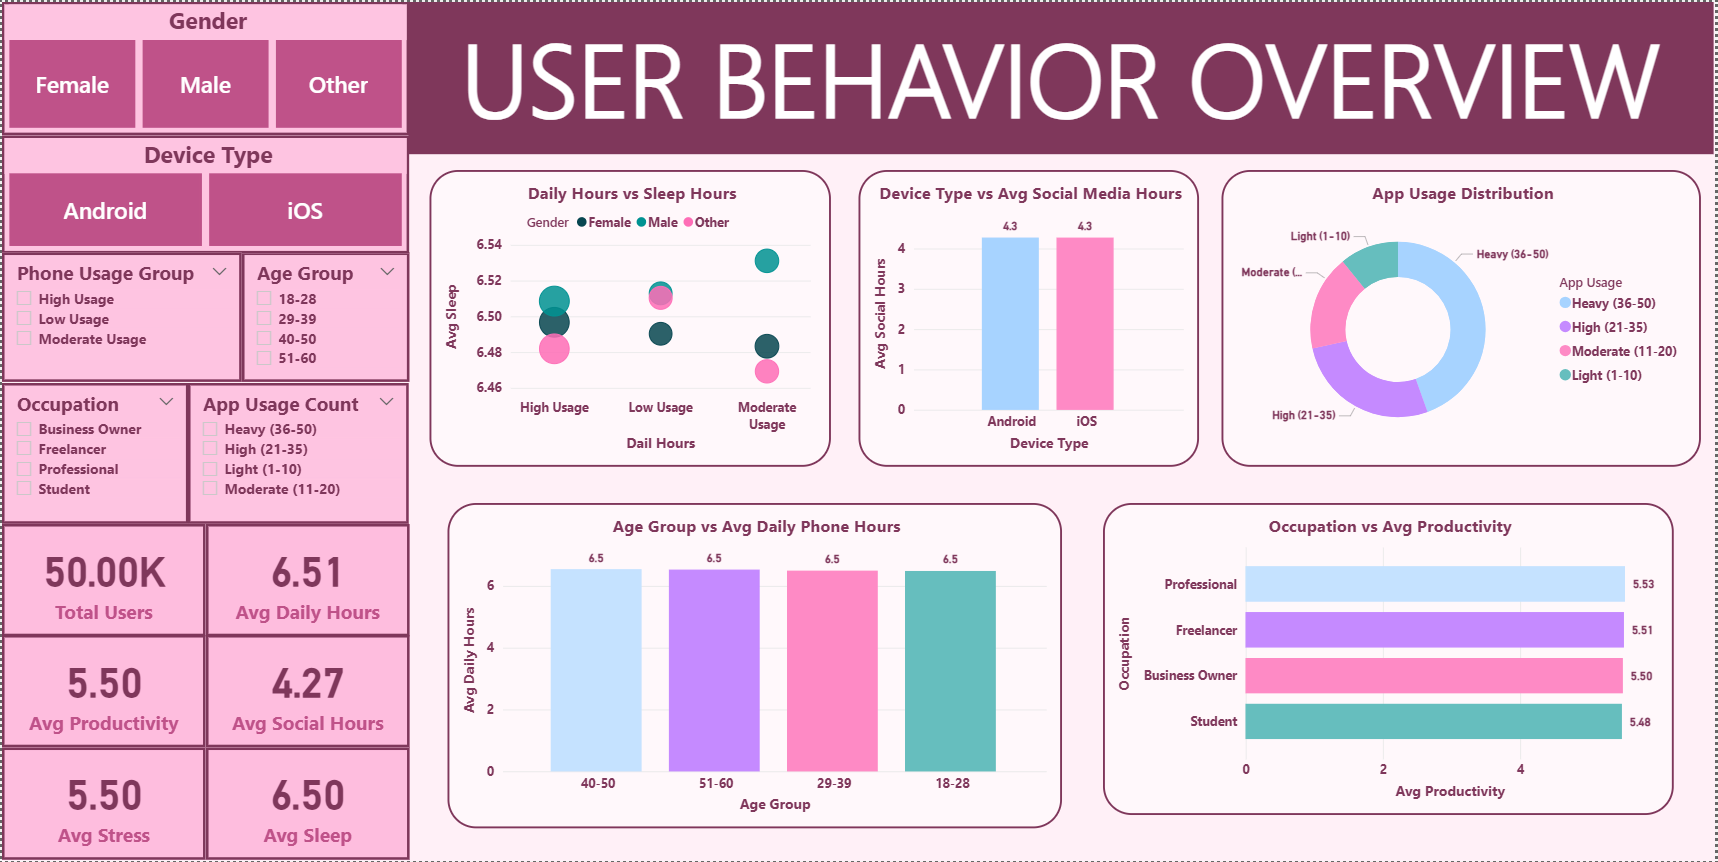

The page's visual inventory and layout, read from the dashboard file:
{"tool":"powerbi","page":{"name":"USER BEHAVIOR OVERVIEW","canvas":[1800,903],"ordinal":1},"visuals":[{"type":"advancedSlicerVisual","fields":{"Values":["smartphone (2).Gender"]},"box":[0,0,428,140],"z":0},{"type":"slicer","title":"fdh","fields":{"Values":["smartphone (2).Occupation"]},"box":[0,400,196,148],"z":1000},{"type":"slicer","title":"fdh","fields":{"Values":["smartphone (2).Age_Group"]},"box":[252,264,176,136],"z":2000},{"type":"advancedSlicerVisual","fields":{"Values":["smartphone (2).Device_Type"]},"box":[0,140,428,124],"z":3000},{"type":"slicer","title":"fdh","fields":{"Values":["smartphone (2).App_Usage_Count_Group"]},"box":[196,400,232,148],"z":4000},{"type":"slicer","title":"fdh","fields":{"Values":["smartphone (2).Phone Usage Group"]},"box":[0,264,252,136],"z":5000},{"type":"card","fields":{"Values":["CountNonNull(smartphone (2).User_ID)"]},"box":[0,548,214,118],"z":6000},{"type":"card","fields":{"Values":["Avg(smartphone (2).Daily_Phone_Hours)"]},"box":[214,548,214,118],"z":7000},{"type":"card","fields":{"Values":["Avg(smartphone (2).Social_Media_Hours)"]},"box":[214,666,214,118],"z":8000},{"type":"card","fields":{"Values":["Avg(smartphone (2).Sleep_Hours)"]},"box":[214,784,214,118],"z":9000},{"type":"card","fields":{"Values":["Avg(smartphone (2).Stress_Level)"]},"box":[0,784,214,118],"z":10000},{"type":"card","fields":{"Values":["Avg(smartphone (2).Work_Productivity_Score)"]},"box":[0,666,214,118],"z":11000},{"type":"clusteredColumnChart","title":"Age Group vs Avg Daily Phone Hours","fields":{"Category":["smartphone (2).Age_Group"],"Y":["Avg(smartphone (2).Daily_Phone_Hours)"]},"box":[468,526,646,342],"z":12000},{"type":"clusteredBarChart","title":"Occupation vs Avg Productivity","fields":{"Category":["smartphone (2).Occupation"],"Y":["Avg(smartphone (2).Work_Productivity_Score)"]},"box":[1158,526,600,328],"z":13000},{"type":"columnChart","title":"Device Type vs Avg Social Media Hours","fields":{"Y":["Avg(smartphone (2).Social_Media_Hours)"],"Category":["smartphone (2).Device_Type"]},"box":[900,176,358,312],"z":14000},{"type":"scatterChart","title":"Daily Hours vs Sleep Hours","fields":{"X":["smartphone (2).Phone Usage Group"],"Y":["Avg(smartphone (2).Sleep_Hours)"],"Series":["smartphone (2).Gender"],"Size":["CountNonNull(smartphone (2).User_ID)"]},"box":[450,176,422,312],"z":15000},{"type":"donutChart","title":"App Usage Distribution","fields":{"Category":["smartphone (2).App_Usage_Count_Group"],"Y":["CountNonNull(smartphone (2).User_ID)"]},"box":[1282,176,504,312],"z":16000},{"type":"textbox","box":[428,0,1372,160],"z":17000}]}

Visuals, with their boxes in screenshot pixels (x1, y1, x2, y2), scaled from the page's 1800x903 canvas onto the 1718x862 screenshot:
advancedSlicerVisual - smartphone (2).Gender: [0, 0, 409, 134]
"fdh" slicer: [0, 382, 187, 523]
"fdh" slicer: [241, 252, 409, 382]
advancedSlicerVisual - smartphone (2).Device_Type: [0, 134, 409, 252]
"fdh" slicer: [187, 382, 409, 523]
"fdh" slicer: [0, 252, 241, 382]
card - CountNonNull(smartphone (2).User_ID): [0, 523, 204, 636]
card - Avg(smartphone (2).Daily_Phone_Hours): [204, 523, 409, 636]
card - Avg(smartphone (2).Social_Media_Hours): [204, 636, 409, 748]
card - Avg(smartphone (2).Sleep_Hours): [204, 748, 409, 861]
card - Avg(smartphone (2).Stress_Level): [0, 748, 204, 861]
card - Avg(smartphone (2).Work_Productivity_Score): [0, 636, 204, 748]
"Age Group vs Avg Daily Phone Hours" clusteredColumnChart: [447, 502, 1063, 829]
"Occupation vs Avg Productivity" clusteredBarChart: [1105, 502, 1678, 815]
"Device Type vs Avg Social Media Hours" columnChart: [859, 168, 1201, 466]
"Daily Hours vs Sleep Hours" scatterChart: [430, 168, 832, 466]
"App Usage Distribution" donutChart: [1224, 168, 1705, 466]
textbox: [409, 0, 1717, 153]
